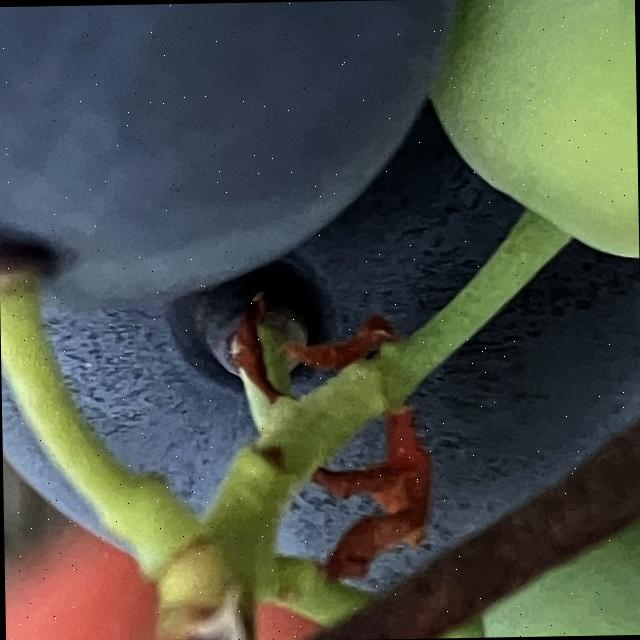Blueberries: (0, 0, 472, 340), (398, 0, 639, 306)
